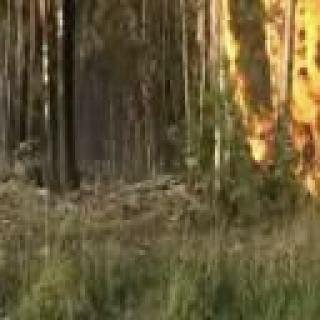fire: (194, 0, 320, 180), (315, 191, 320, 231)
